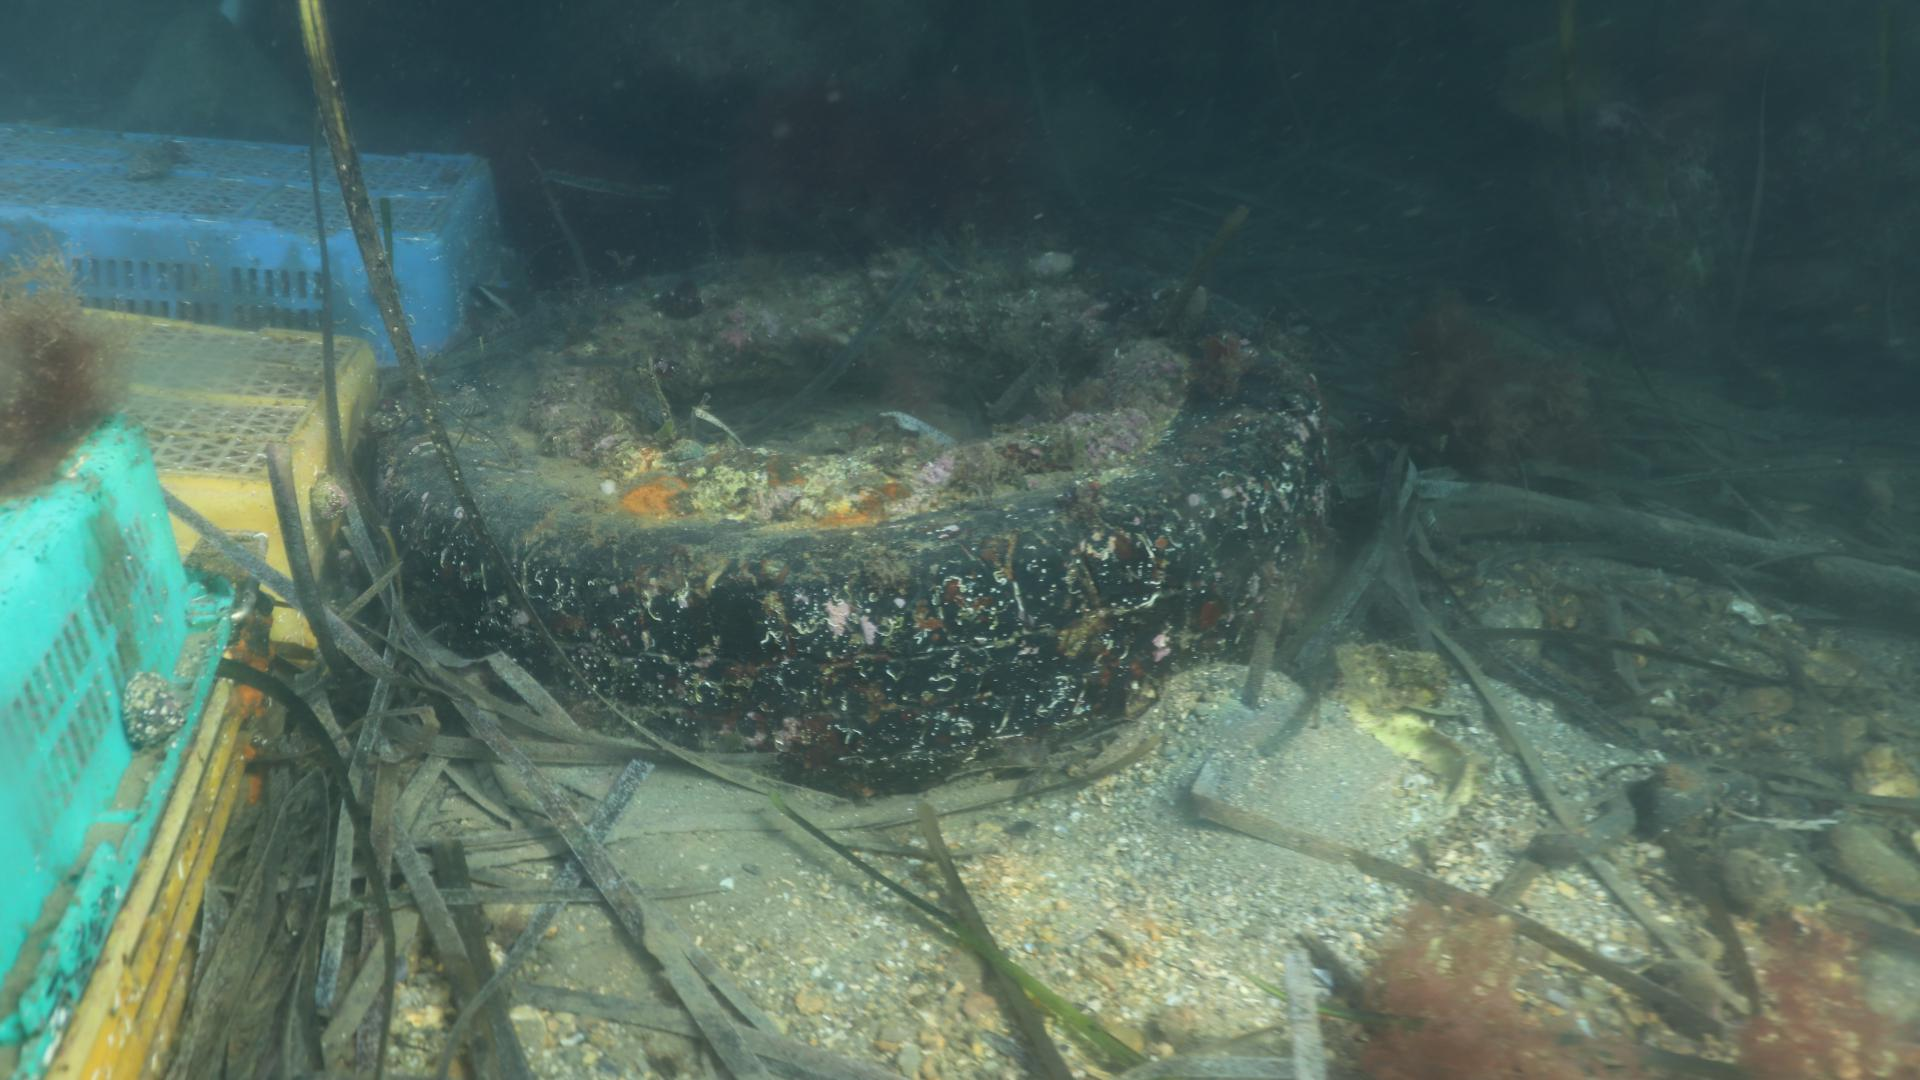tire: (371, 251, 1329, 794)
